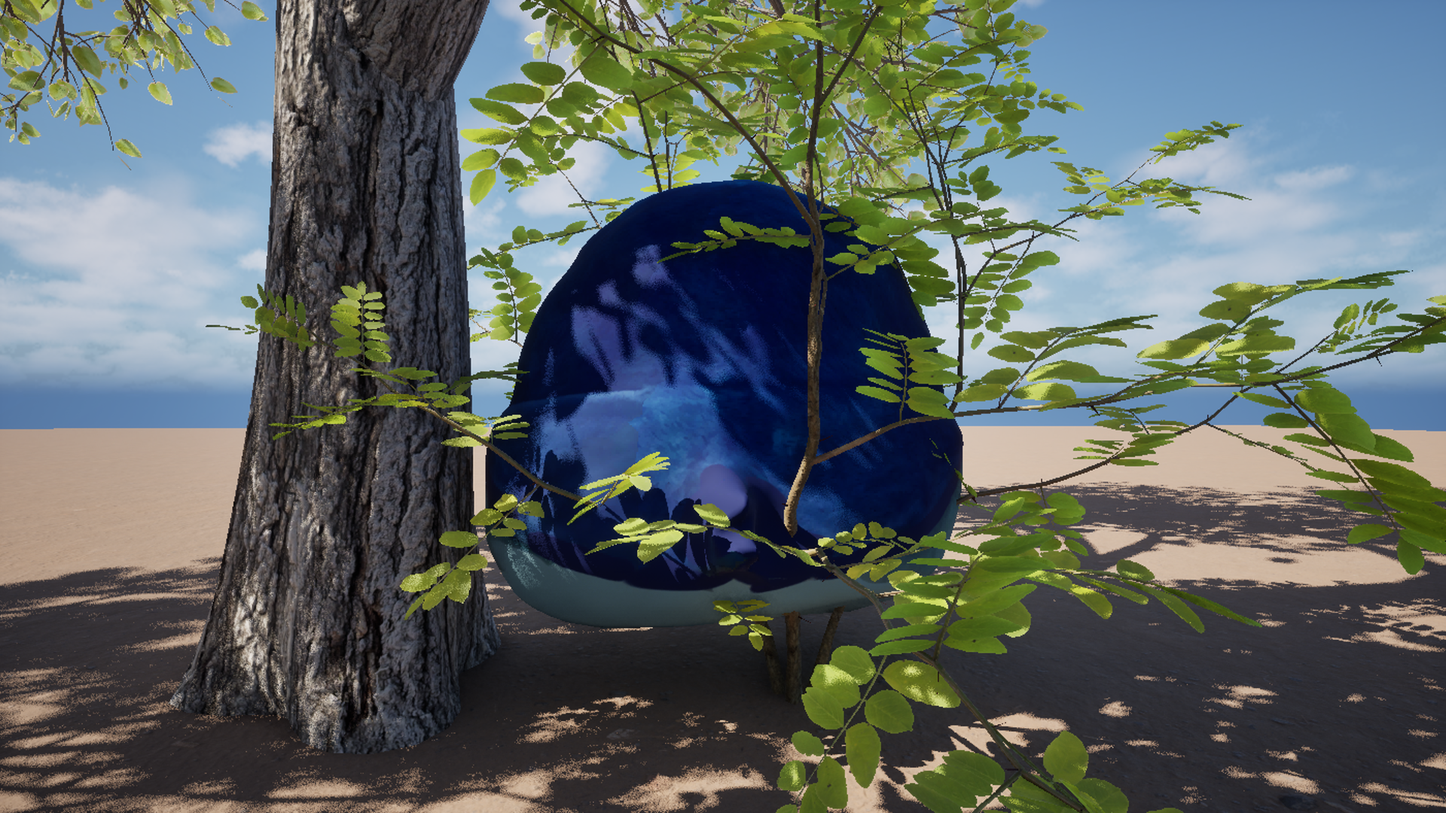Piplup: (318, 33, 1158, 780)
